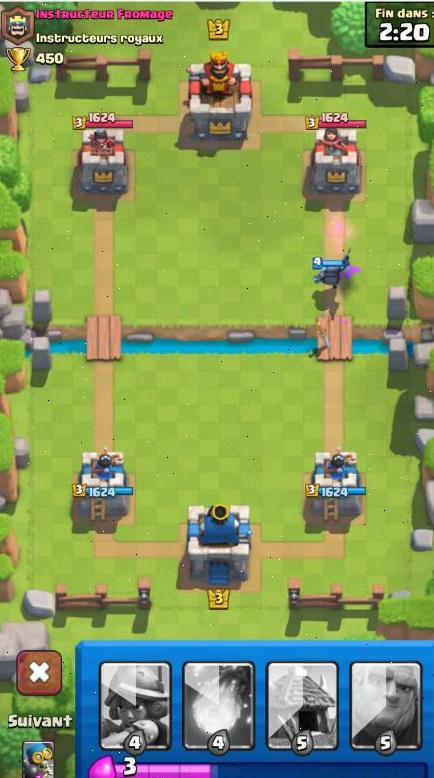player_mini_pekka: (307, 248, 356, 291)
